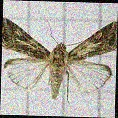Spodoptera litura: (2, 18, 117, 105)
